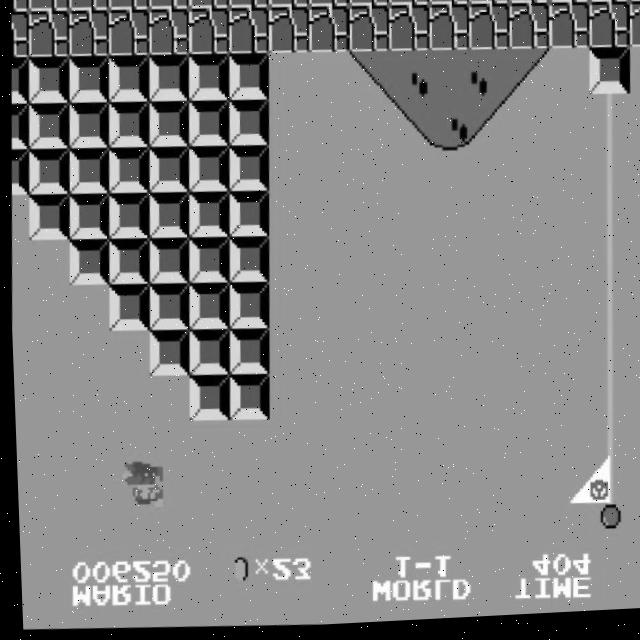11- little_mario: (114, 461, 160, 512)
17- undestructible_block: (306, 8, 351, 57), (426, 7, 471, 56), (466, 7, 511, 56), (586, 6, 631, 55), (26, 10, 71, 58), (346, 8, 391, 56), (386, 8, 431, 56), (506, 7, 551, 55), (546, 7, 591, 55), (66, 9, 110, 58), (106, 9, 150, 58), (146, 9, 190, 58), (266, 8, 310, 57), (186, 9, 230, 57), (226, 9, 270, 57), (9, 11, 30, 59), (627, 7, 640, 54), (27, 0, 69, 13), (147, 0, 190, 12), (227, 0, 270, 12), (67, 0, 109, 12), (107, 0, 149, 12), (187, 0, 230, 11), (267, 0, 310, 11), (347, 0, 390, 11), (387, 0, 430, 11), (427, 0, 470, 11), (307, 0, 350, 10), (467, 0, 510, 10), (507, 0, 550, 10), (547, 0, 590, 10), (587, 0, 630, 10), (10, 0, 28, 13), (628, 0, 640, 8)
7- goal_pole: (584, 326, 629, 375), (585, 189, 630, 238), (584, 464, 628, 513), (585, 281, 629, 330), (586, 98, 630, 147), (585, 145, 630, 192), (584, 510, 628, 558), (584, 418, 628, 466), (584, 373, 628, 421), (585, 236, 629, 283)
9- hard_block: (25, 192, 70, 241), (65, 192, 110, 241), (104, 284, 149, 333), (105, 192, 150, 241), (144, 329, 189, 378), (145, 192, 190, 241), (184, 283, 229, 332), (185, 192, 230, 241), (586, 52, 631, 101), (25, 147, 70, 195), (65, 147, 110, 195), (105, 147, 150, 195), (144, 284, 189, 332), (145, 147, 190, 195), (184, 375, 229, 423), (184, 329, 229, 377), (224, 375, 269, 423), (224, 329, 269, 377), (26, 101, 70, 150), (26, 56, 70, 105), (66, 55, 110, 104), (106, 55, 150, 104), (146, 100, 190, 149), (146, 55, 190, 104), (186, 100, 230, 149), (186, 55, 230, 104), (225, 283, 269, 332), (225, 191, 269, 240), (65, 239, 109, 287), (66, 101, 110, 149), (105, 239, 149, 287), (106, 101, 150, 149), (186, 147, 230, 195), (225, 238, 269, 286), (226, 146, 270, 194), (226, 100, 270, 148), (226, 55, 270, 103), (145, 239, 189, 286), (185, 239, 229, 286), (8, 149, 29, 195), (9, 57, 29, 105), (9, 103, 29, 149)
